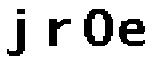0: (81, 6, 114, 48)
e: (119, 17, 147, 49)
j: (6, 6, 32, 60)
r: (47, 14, 71, 47)
